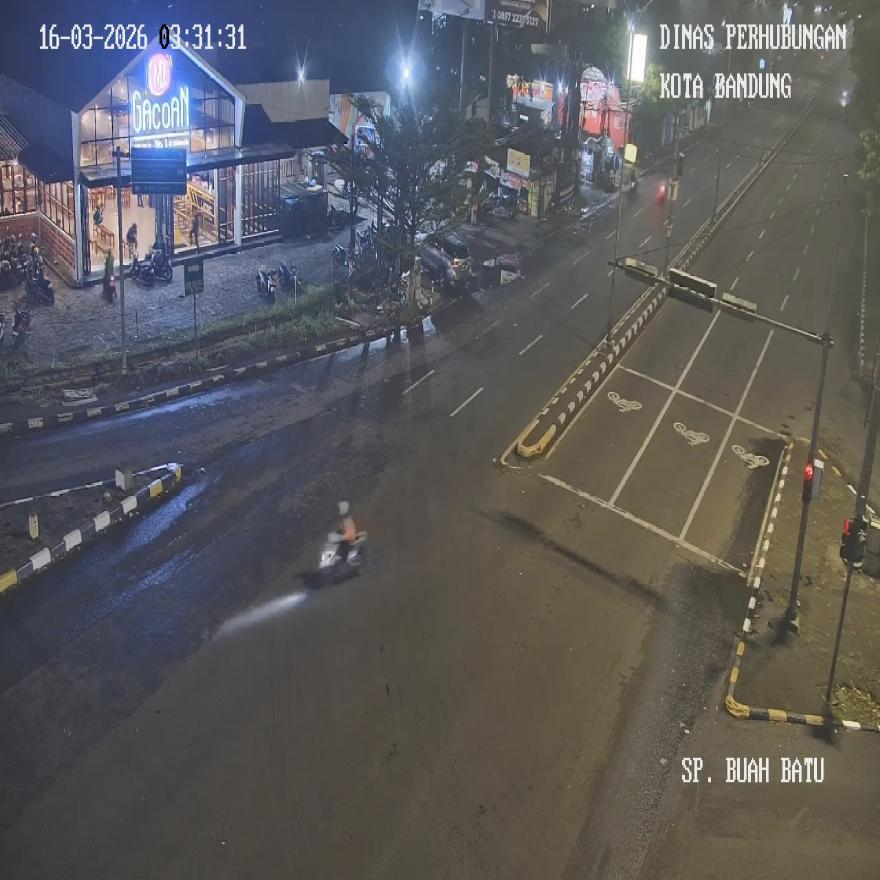Truk: (319, 529, 364, 583), (25, 262, 54, 303), (130, 251, 156, 287), (11, 304, 32, 347), (149, 243, 172, 281), (279, 260, 301, 297), (256, 262, 276, 300), (125, 224, 138, 262), (102, 270, 117, 301), (0, 312, 7, 344)
